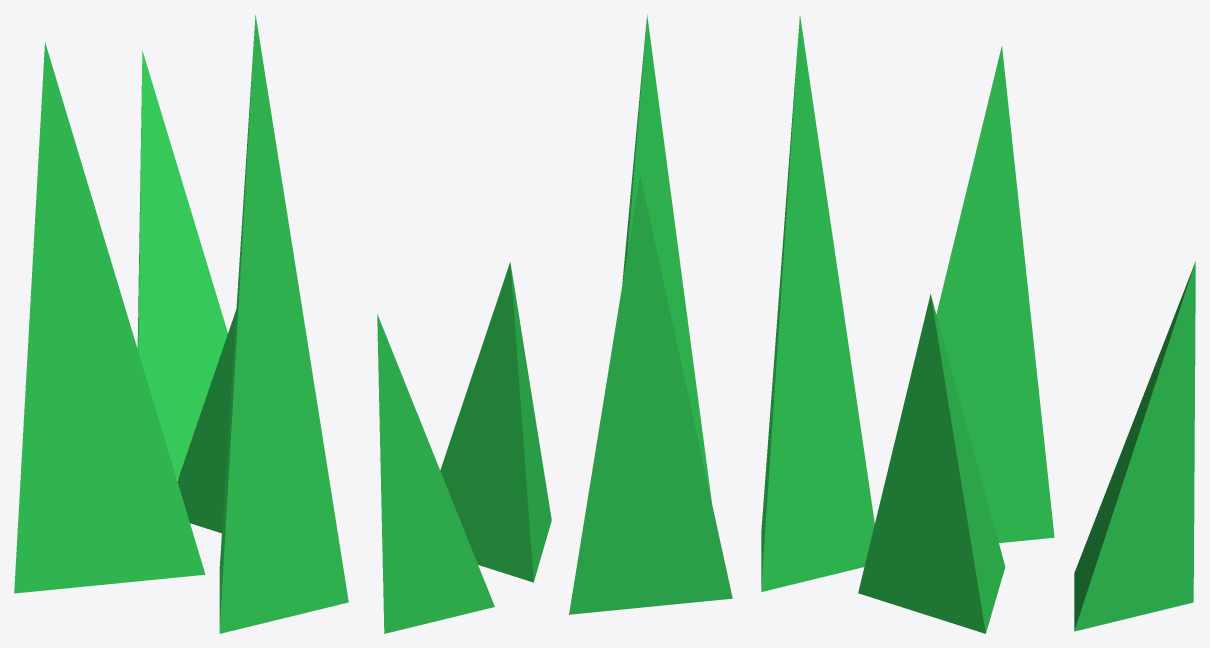
File: low_poly_grass.glb
3 views of the same model, side by side, from view 1: azimuth 30°, elevation 25°; view 2: azimuth 150°, elevation 25°; view 3: azimuth 270°, elevation 25° (orthographic). The views are drawn at different scales.
Visible parts, largest first — view 1: Cone.003, Cone, Cone.001, Cone.002; view 2: Cone.003, Cone.002, Cone.001, Cone; view 3: Cone, Cone.003, Cone.002, Cone.001.
Boxes of the visible parts, box(x1,y1,x2,y2) form: Cone.003: box(14, 42, 205, 593); Cone: box(219, 15, 348, 633); Cone.001: box(137, 50, 227, 479); Cone.002: box(177, 310, 236, 533); Cone.003: box(569, 175, 732, 614); Cone.002: box(440, 262, 551, 582); Cone.001: box(377, 314, 494, 633); Cone: box(622, 14, 711, 502); Cone: box(761, 15, 874, 591); Cone.003: box(936, 46, 1054, 542); Cone.002: box(858, 294, 1005, 633); Cone.001: box(1074, 261, 1195, 631).
Bounding box in the file's own units: 2.99 × 4.95 × 3.57.
